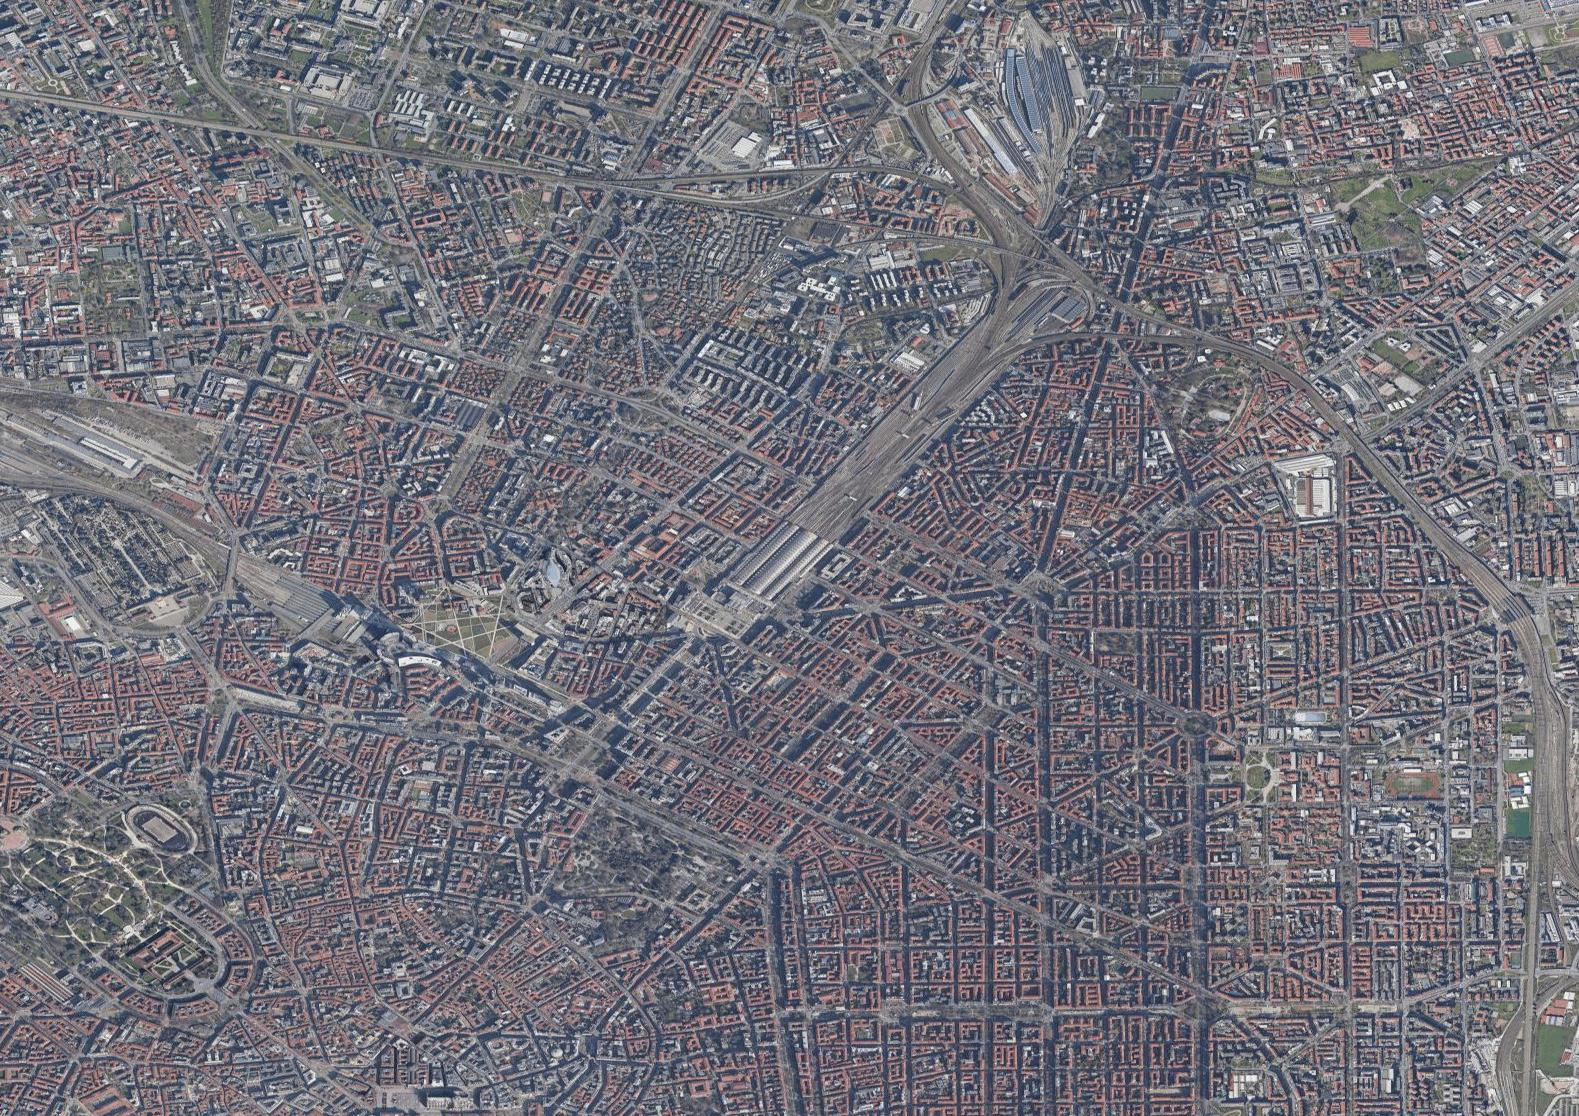train_station: (713, 496, 853, 614)
